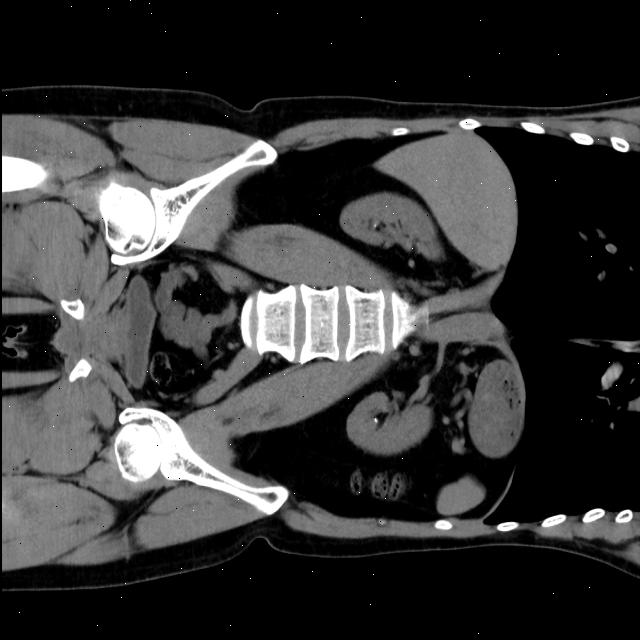kidneystone: (374, 416, 380, 422)
